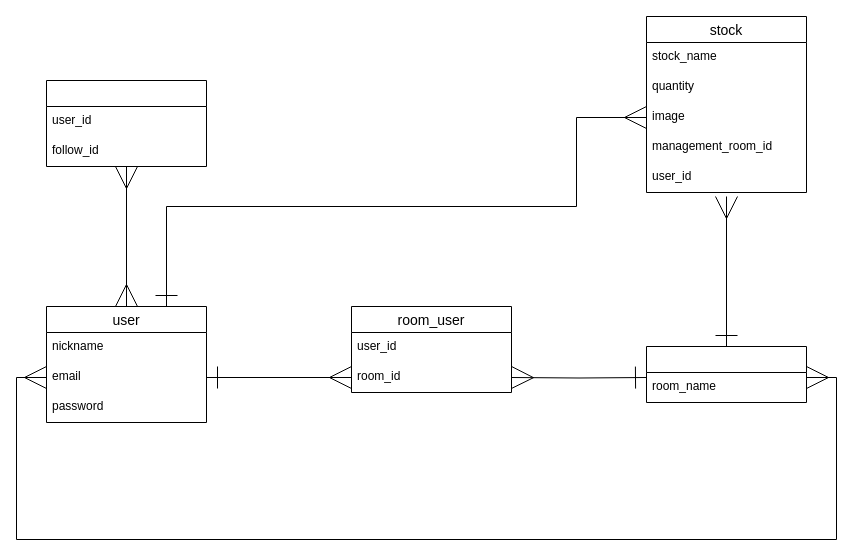
This 853x556 diagram has some shape labels left out. The shapes that lost their labels are listed below. From the top down, each one's box as (x1, y1, x2, y2) in pixels, then its label:
(46, 80, 206, 166): rerationship
(646, 346, 806, 402): management_room
